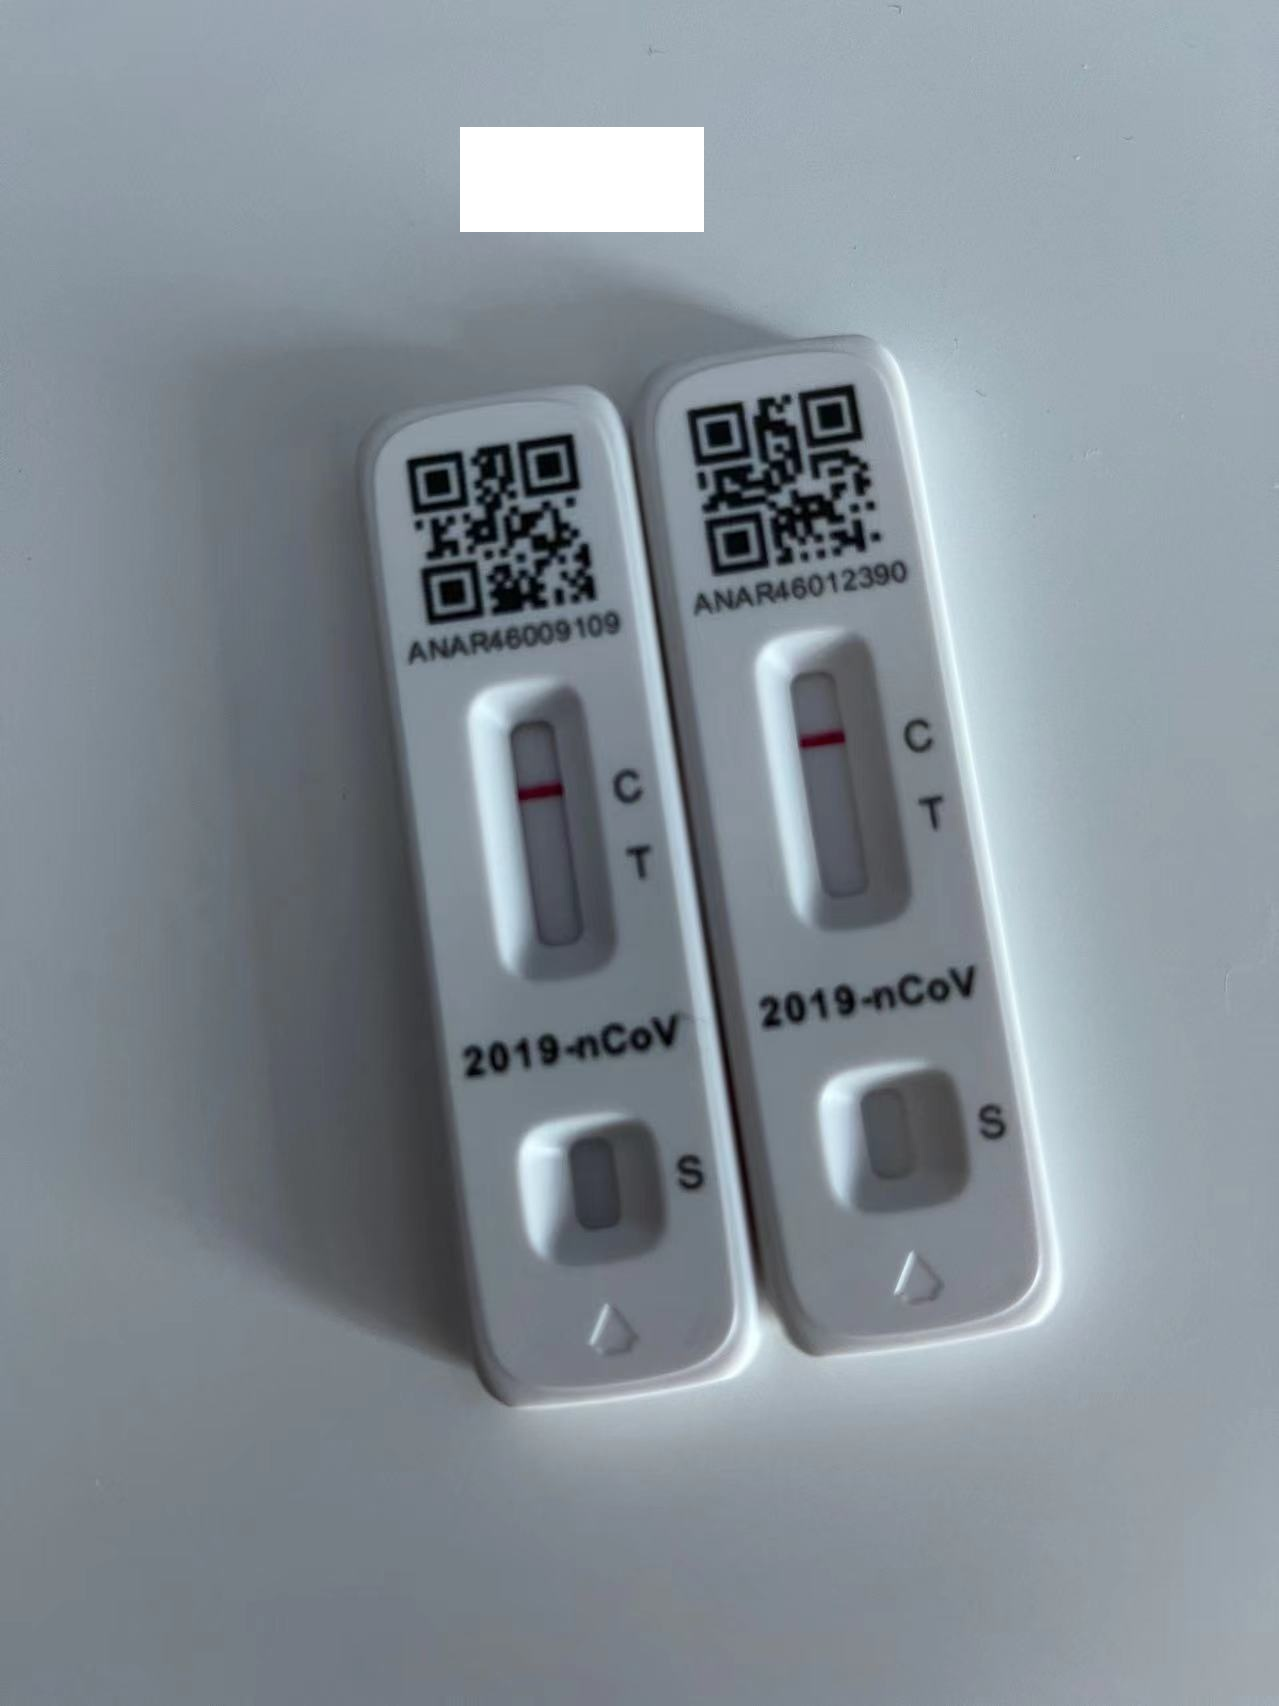negative: (756, 631, 914, 943), (470, 690, 619, 991)
